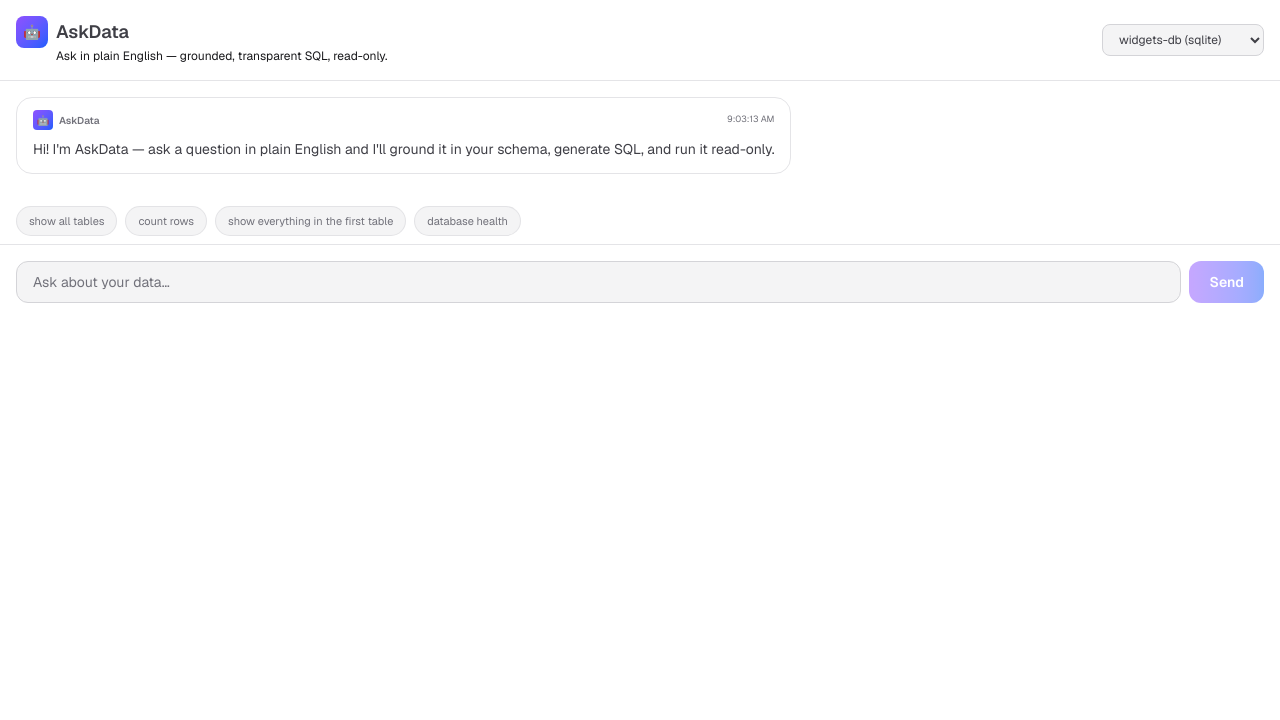
Test: AskDataView › shows a masked-columns notice when PII is redacted
Step 1. Type "q" into the field with placeholder "Ask about your data…" → (599, 282), box [16,261,1182,303]
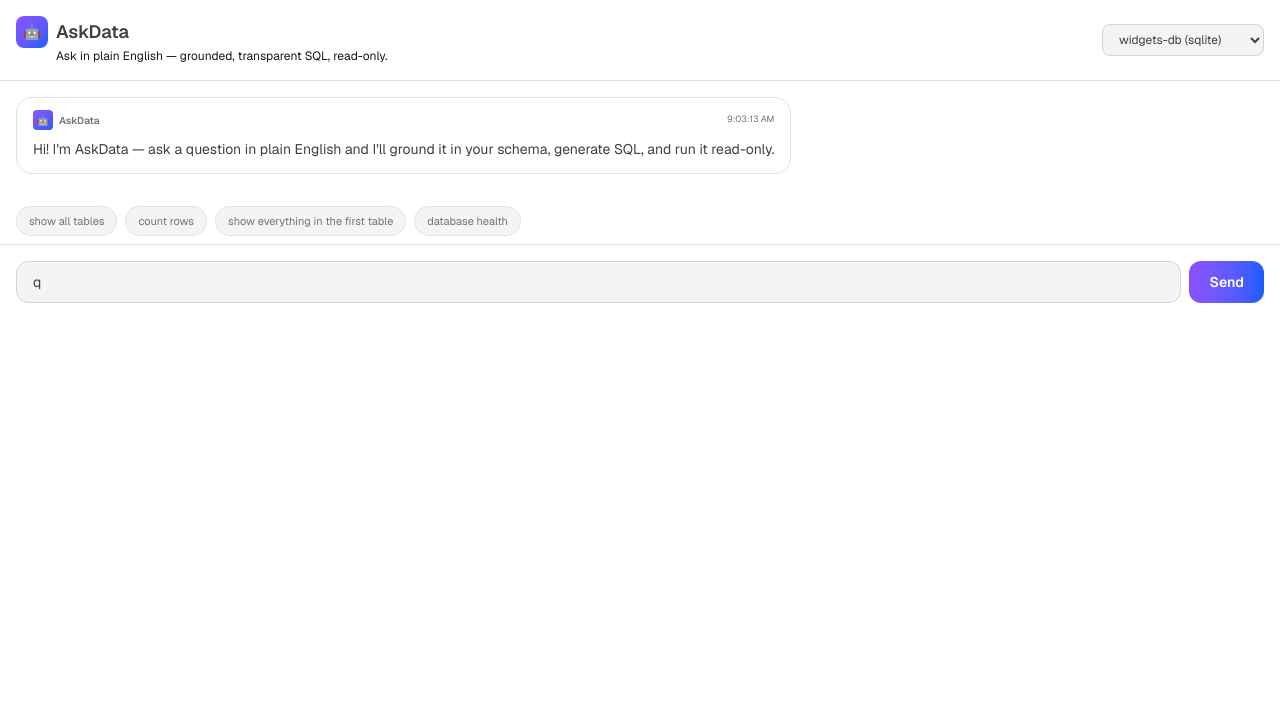
Step 2. Click the button "Send" → (1227, 282), box [1190,261,1264,303]
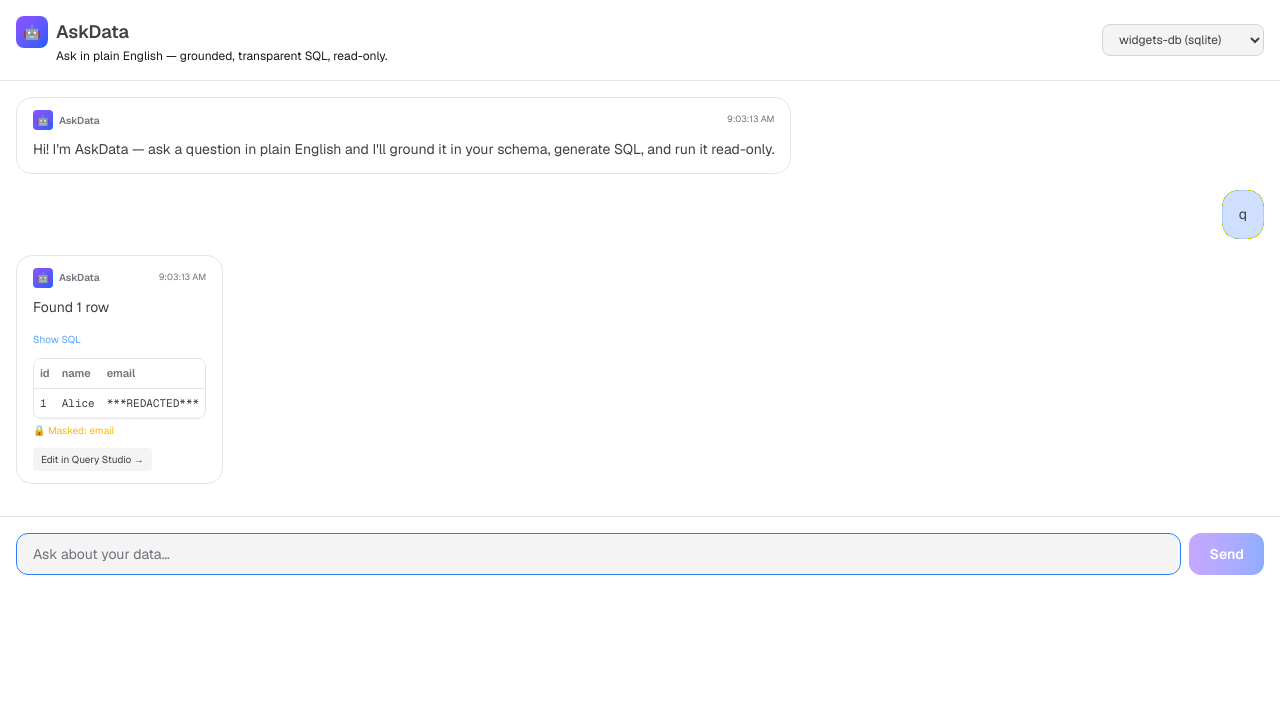
Expected: the text "🔒 Masked: email" is shown, [33,424,114,437]
